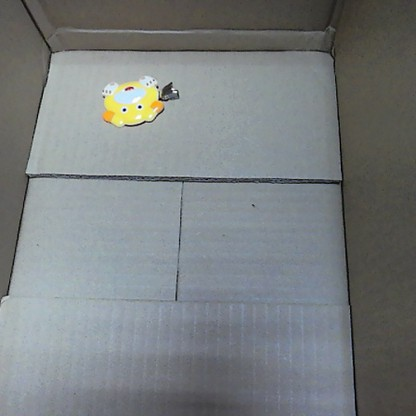dogclip: (97, 70, 180, 130)
